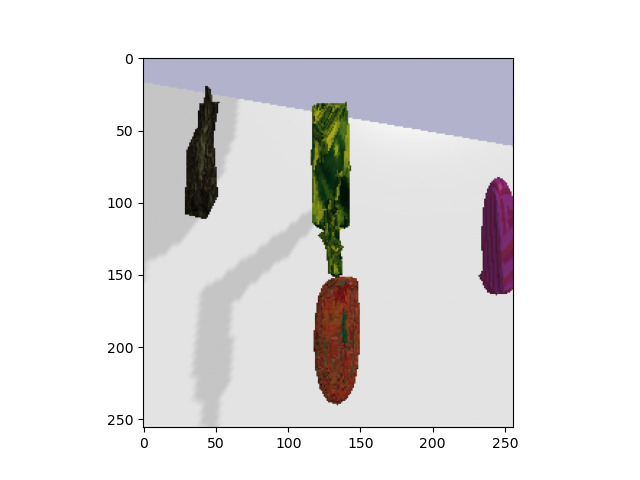v249b387_105: (475, 171, 515, 303)
v249b387_106: (308, 277, 367, 405)
v249b387_108: (306, 99, 362, 279)
v249b387_109: (172, 85, 234, 225)
